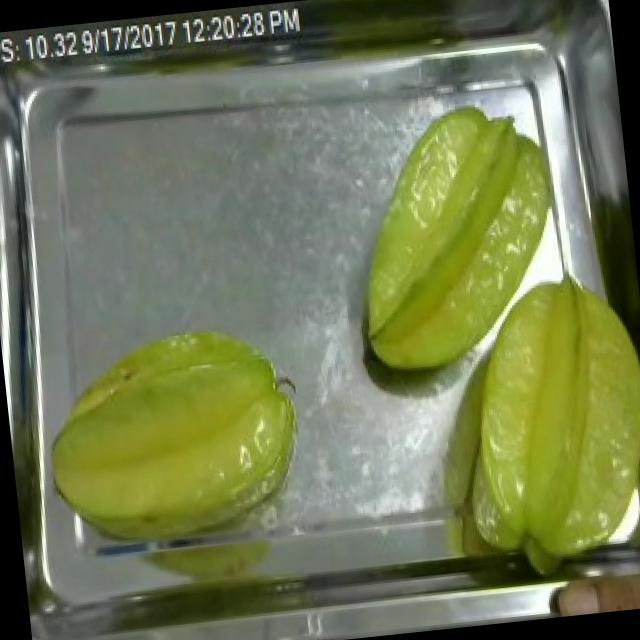fruit: (26, 308, 321, 572), (332, 87, 578, 390), (437, 262, 640, 591)
